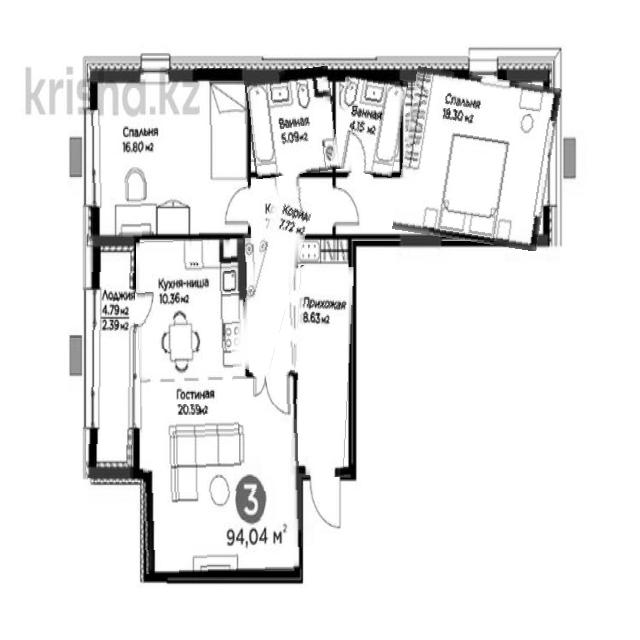balcony: (87, 238, 135, 478)
bathroom: (246, 69, 337, 177), (333, 74, 404, 176)
hallway: (240, 182, 306, 374), (293, 265, 352, 477)
living_room: (398, 71, 556, 246), (90, 69, 248, 237)
studio: (135, 239, 302, 574)
